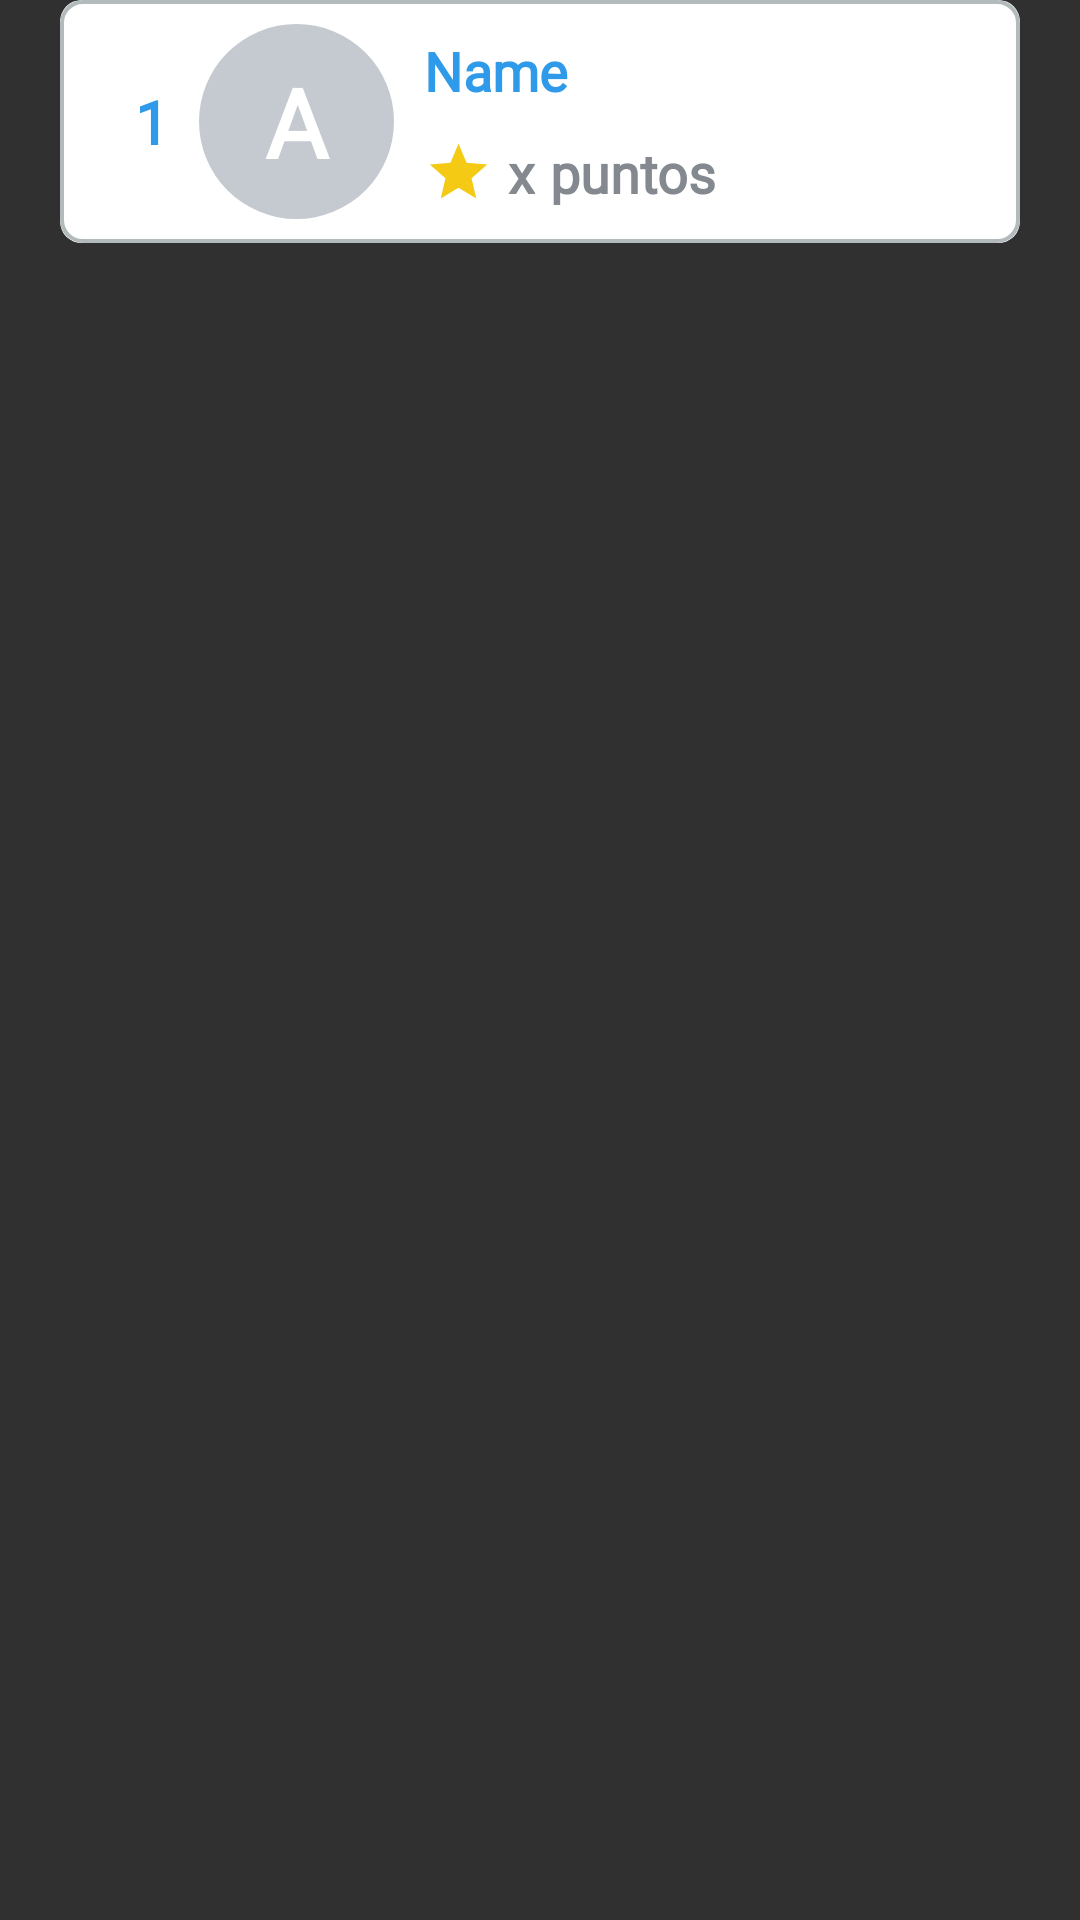

Named icons in this screenshot (1080*1920) and their centers, [x,y]:
star: [458,171]
